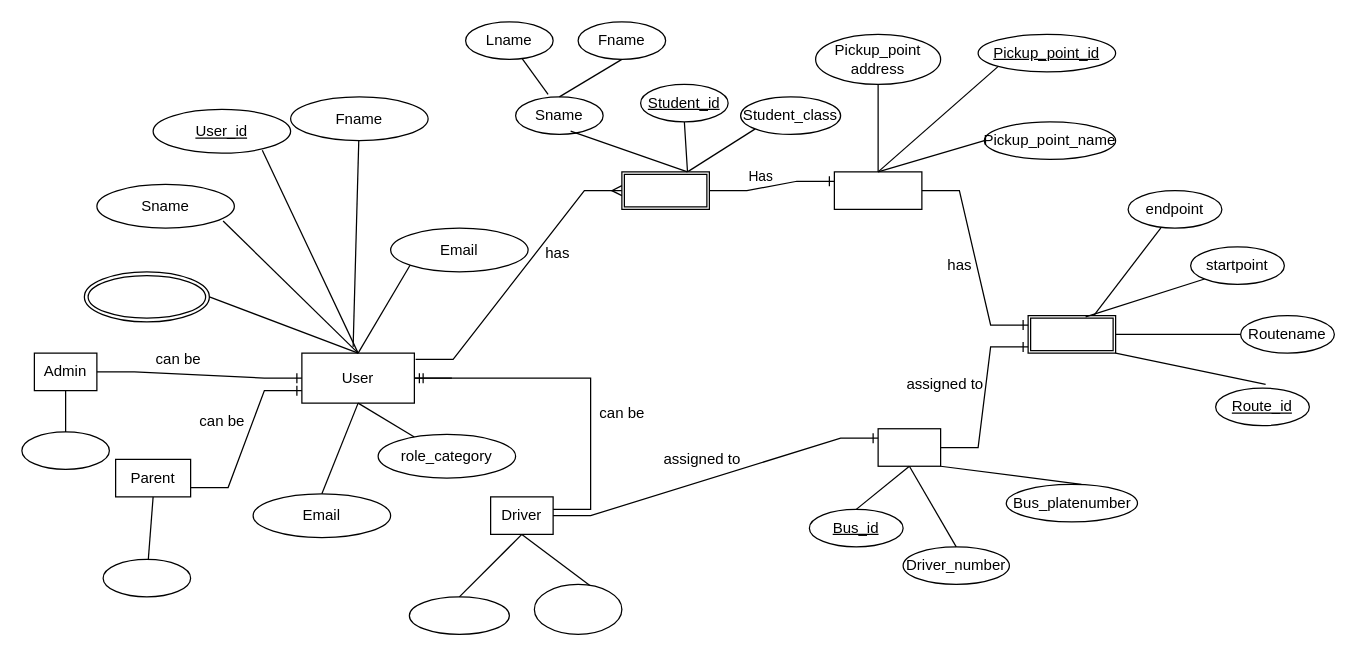
Image size: 1356x656. Some labels were removed from this diagram. The box of each missing label's shape, as (x1, y1, x2, y2) in pixels:
Admin_id: (21, 431, 109, 469)
Bus: (877, 428, 941, 466)
Driver_id: (533, 583, 622, 634)
Driver_licence: (408, 596, 509, 634)
Parent_id: (102, 558, 191, 597)
Phonenumber: (83, 271, 209, 322)
Pickup_point: (833, 171, 922, 209)
Route: (1027, 314, 1116, 353)
Student: (621, 171, 709, 209)
